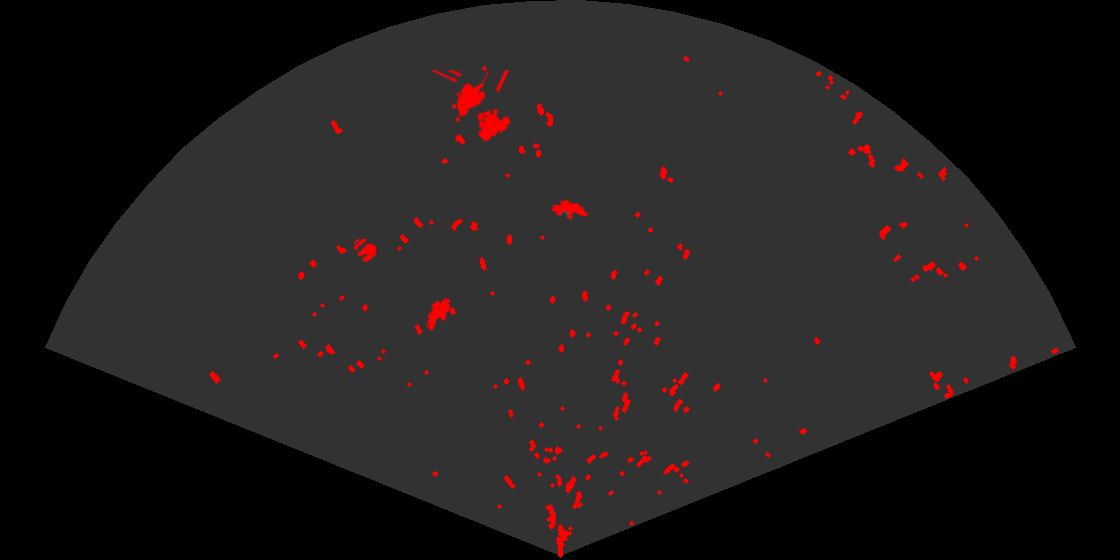AUV: (426, 296, 452, 333), (550, 198, 590, 221)
ball: (352, 237, 378, 264)
cage: (431, 70, 513, 143)
